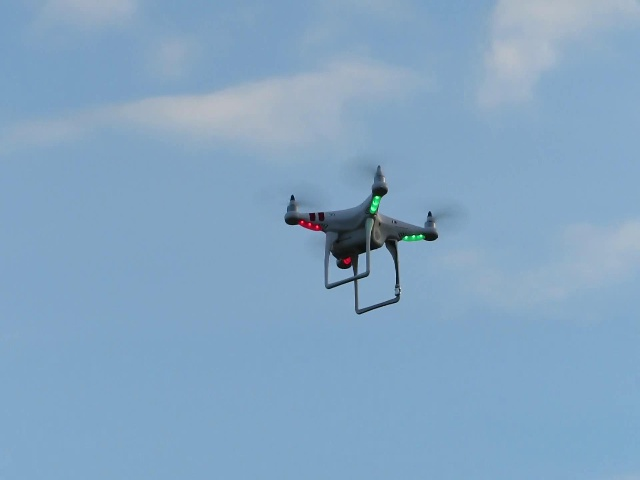drone: (267, 162, 453, 320)
